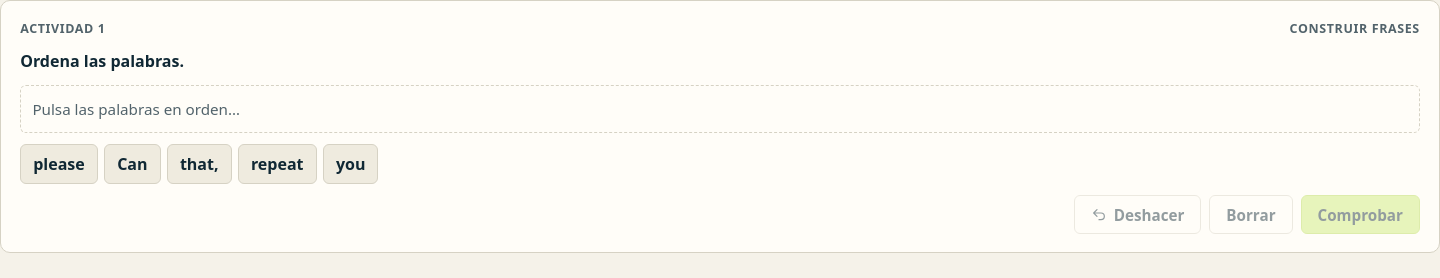
Test: Construir frases › una ficha colocada se puede quitar pulsándola
What coordinates should you click on to do the following:
click the button "Can"
I would click on:
 (132, 164)
Its box is x1=104 y1=144 x2=160 y2=184.
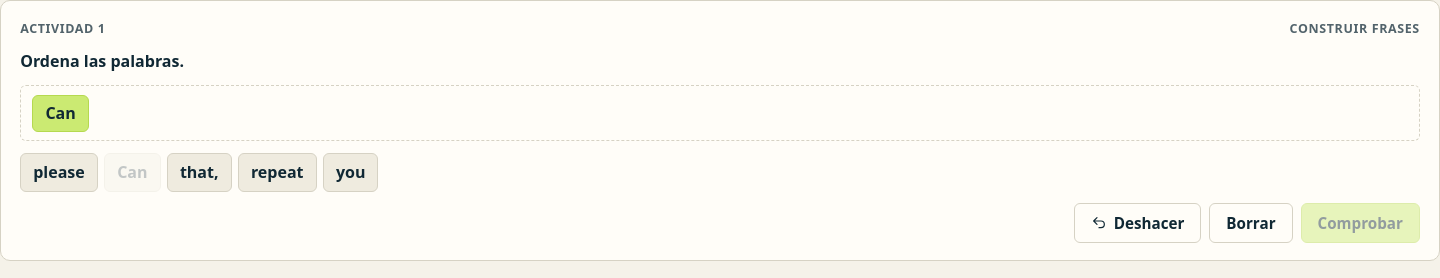
What coordinates should you click on to do the following:
click the button with aria-label "Quitar «Can»"
I would click on:
 (61, 113)
Its box is x1=32 y1=95 x2=89 y2=132.
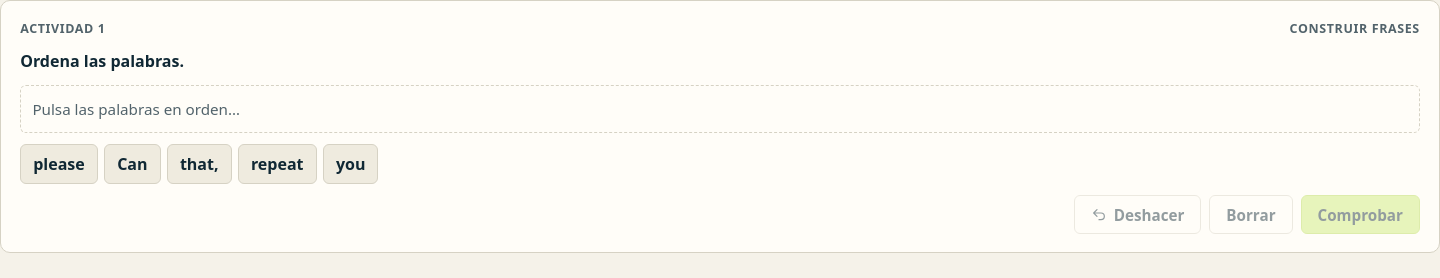
Check: the text "Pulsa las palabras en orden…" is shown, box x1=32 y1=99 x2=240 y2=119
